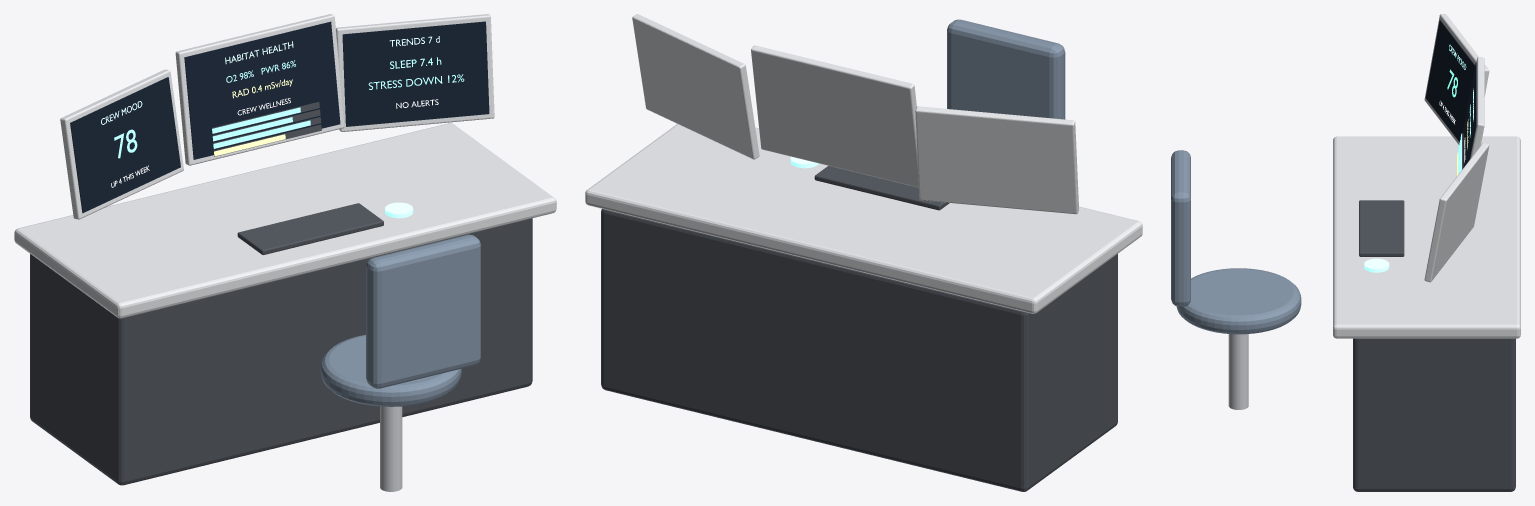
File: habitat_console.glb
3 renders of one model, left to right at view 1: azimuth 30°, elevation 25°; view 2: azimuth 150°, elevation 25°; view 3: azimuth 270°, elevation 25°, orthographic. The views are drawn at different scales.
Parts seen in each view (by area): view 1: Chair_Back, Mood_Screen_Text.001, Mood_Screen_Text.002, Trackball; view 2: Chair_Back; view 3: Chair_Back, Trackball.
Boxes of the visible parts, x1,y1,x2,y2 form: Chair_Back: [14, 14, 556, 491]; Mood_Screen_Text.001: [114, 57, 464, 158]; Mood_Screen_Text.002: [111, 79, 438, 187]; Trackball: [101, 36, 439, 218]; Chair_Back: [585, 14, 1142, 491]; Chair_Back: [1171, 14, 1520, 491]; Trackball: [1364, 44, 1473, 272].
Size of the model in its own units: 1.8 by 1.39 by 1.4.
Materials: 4 (4 with a texture image).
